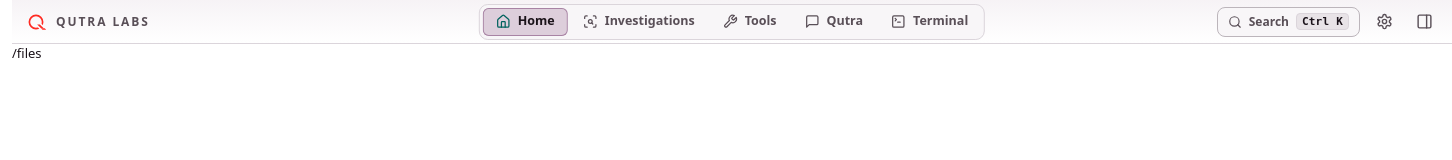
it: TopBar › clicking Investigations opens /lab
This screenshot has width=1452, height=160.
Click the button "Investigations". click: (639, 22)
box: [570,8,708,36]
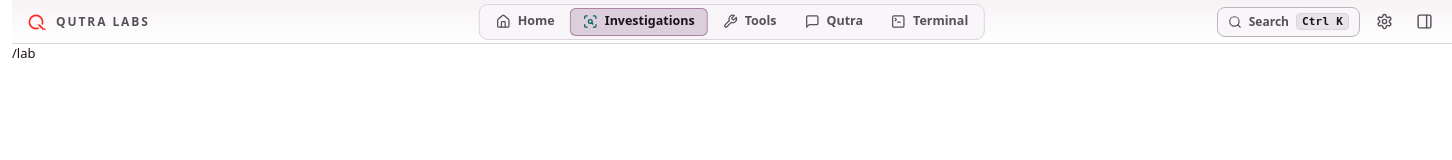
expect the text with test id "where" reads "/lab": met, box [12,44,36,62]
